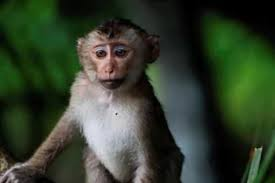monkey: (15, 26, 198, 164)
